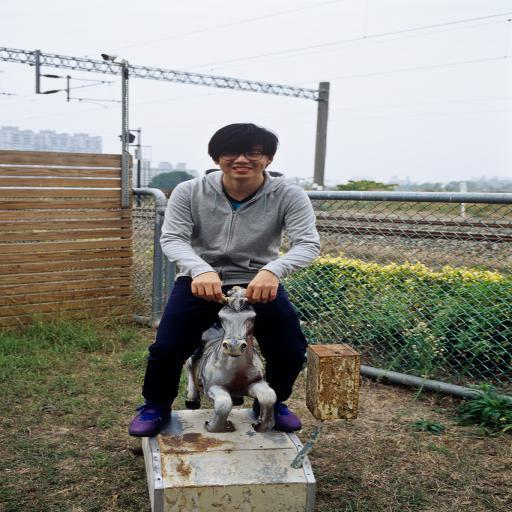horse: (179, 283, 279, 432)
